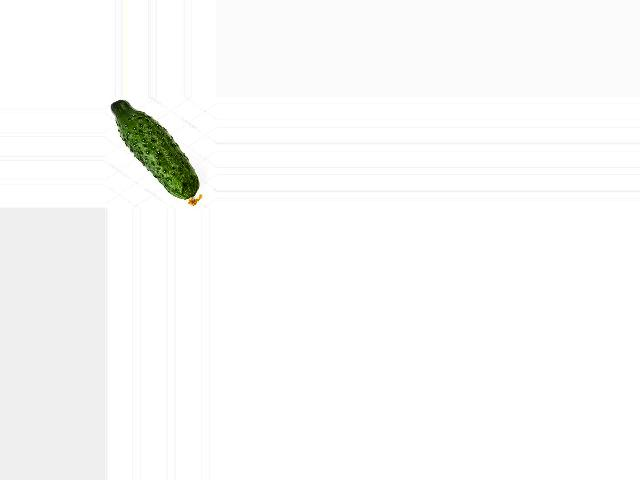cucumber: (110, 100, 201, 206)
